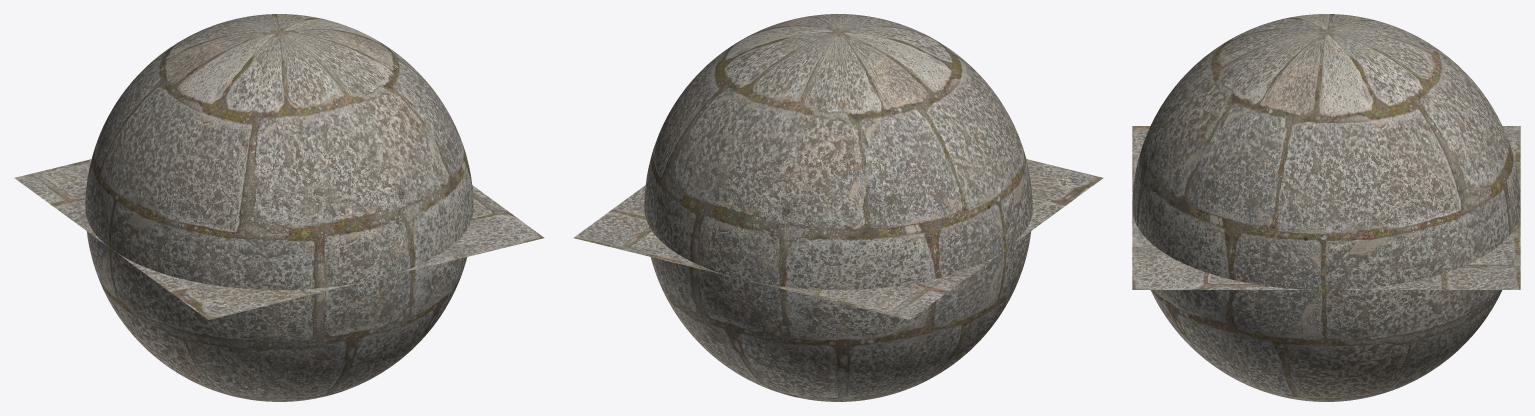
File: rock_tile_floor_2k.fbx
3 renders of one model, left to right at view 1: azimuth 30°, elevation 25°; view 2: azimuth 150°, elevation 25°; view 3: azimuth 270°, elevation 25°, orthographic.
Parts seen in each view (by area): view 1: Sphere, Plane; view 2: Sphere, Plane; view 3: Sphere, Plane.
Boxes of the visible parts, left/top/right/bottom form: Sphere: left=85, top=14, right=473, bottom=401; Plane: left=14, top=159, right=544, bottom=319; Sphere: left=644, top=14, right=1032, bottom=401; Plane: left=573, top=159, right=1103, bottom=319; Sphere: left=1132, top=14, right=1520, bottom=401; Plane: left=1132, top=126, right=1520, bottom=289.
Size of the model in its own units: 196 by 196 by 196.
Materials: 1 (1 with a texture image).
